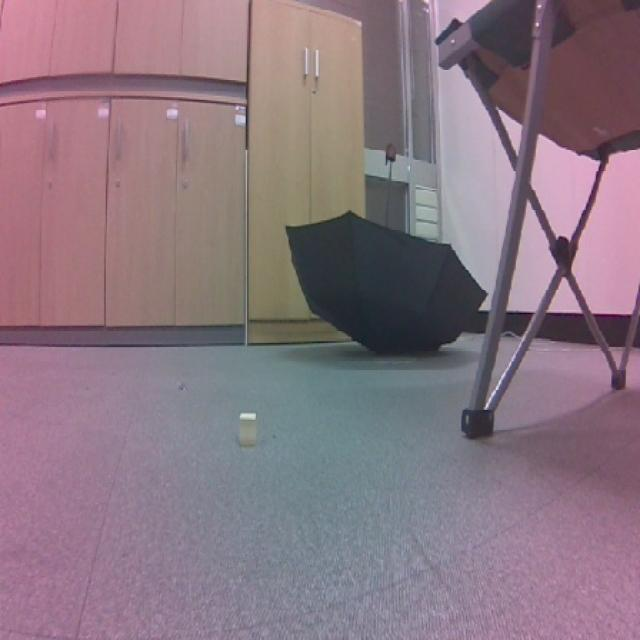obstacle: (235, 403, 264, 457)
